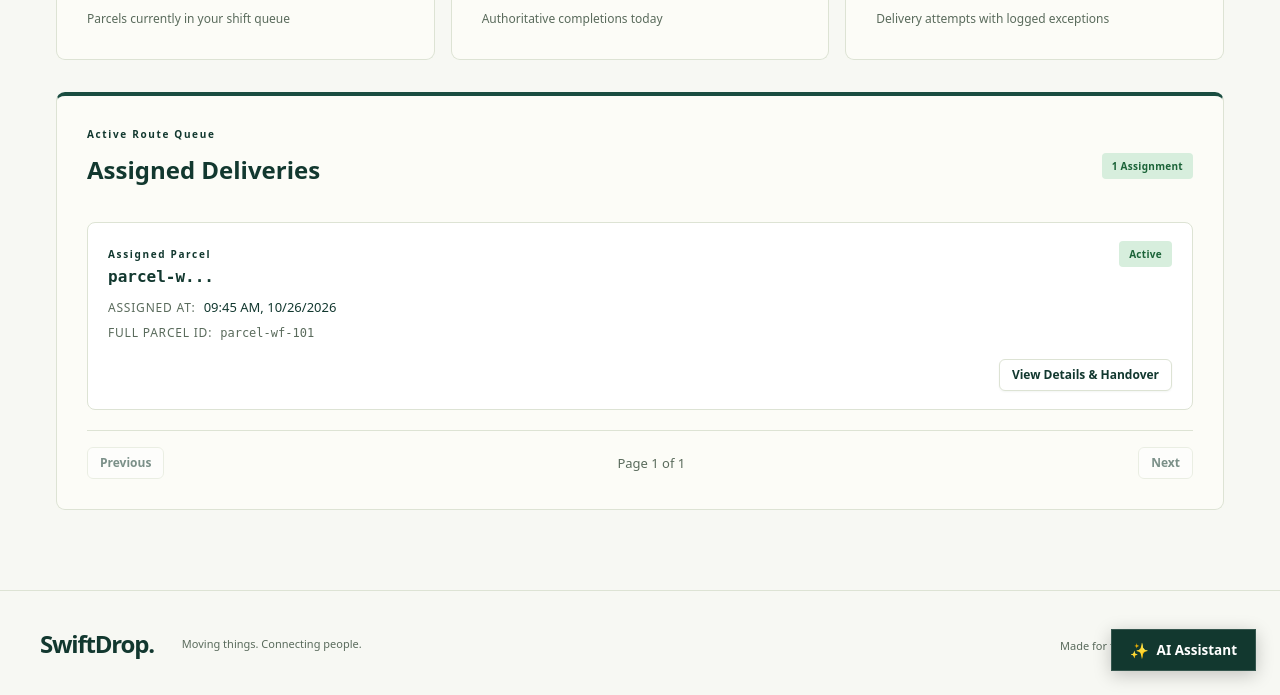
Test: Courier role landing › Mobile assignment dashboard and parcel detail workflow › navigates from paginated assignments into authorized parcel detail and back
The image size is (1280, 695).
(page scrolled)
Expected: the text "parcel-wf-101" is shown, [220,326,314,340]
Note: Click to open parcel details
Click the button with aria-label "view parcel details for parcel-w" at (1085, 375), box [999,359,1172,391]
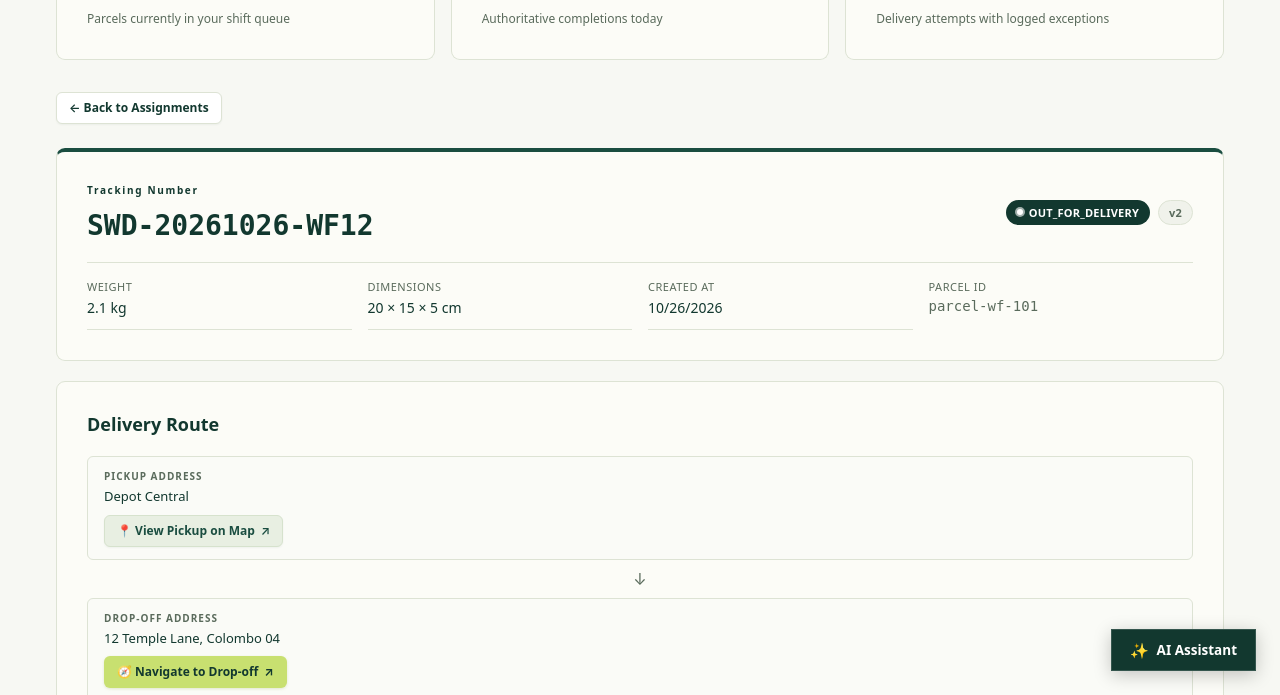
Expected: the heading "SWD-20261026-WF12" is shown, [87,209,374,242]
Expected: the button with aria-label "back to assignments list" is shown
Note: Click back to assignments
Click the button with aria-label "back to assignments list" at (139, 108), box [56,92,222,124]
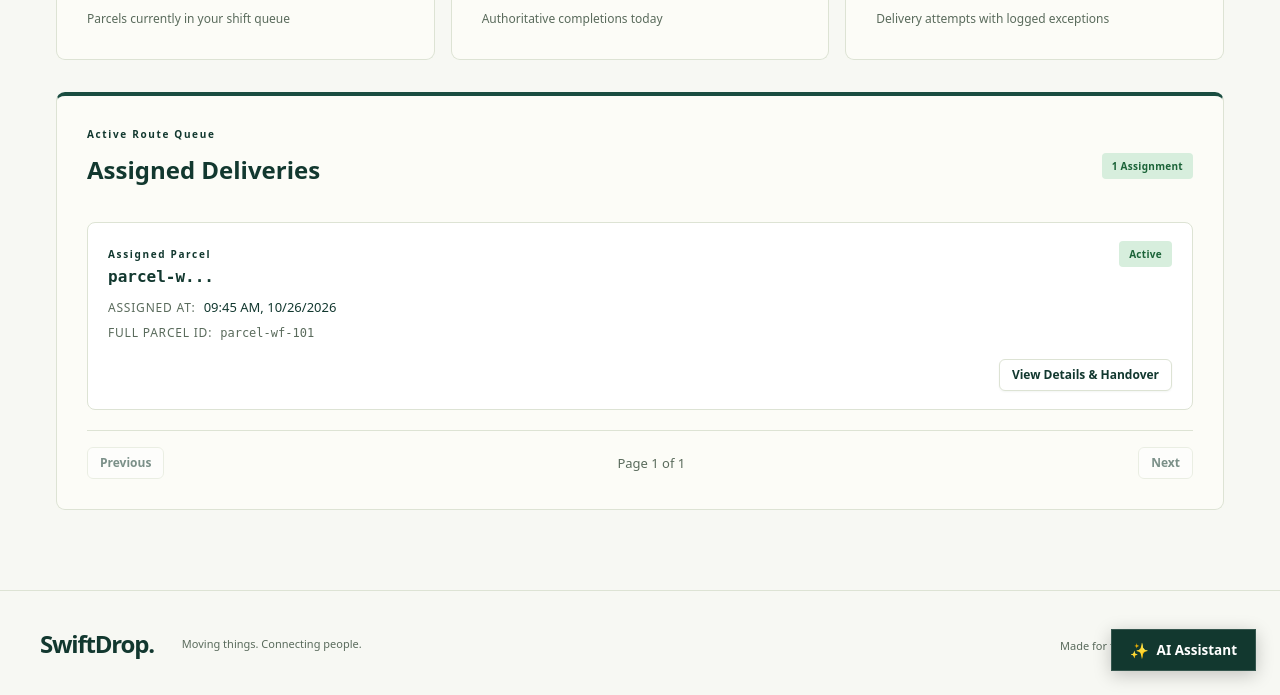
Expected: the heading "Assigned Deliveries" is shown, [87,153,320,186]
